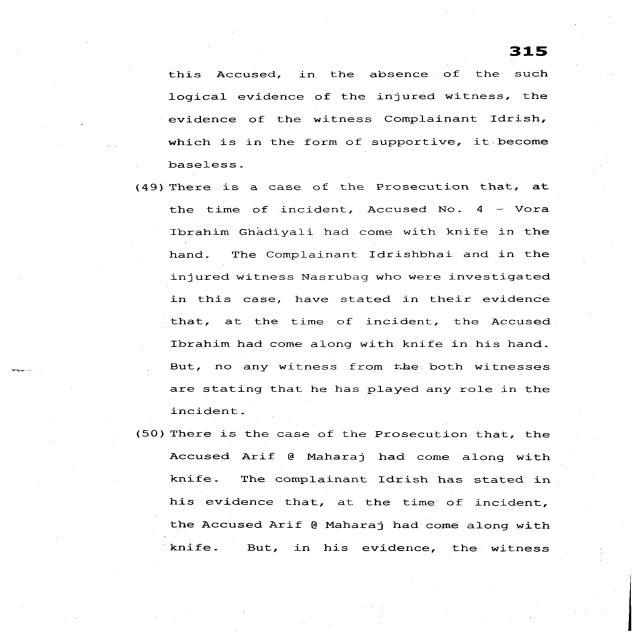page-number: (430, 0, 638, 62)
